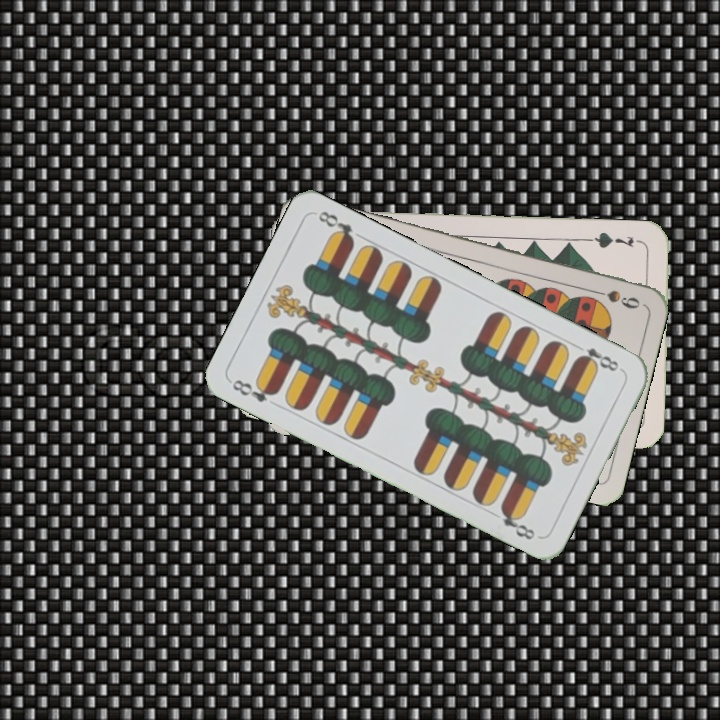E8: (570, 340, 622, 374), (228, 375, 280, 405)
G7: (586, 228, 636, 251)
S9: (585, 285, 643, 312)
